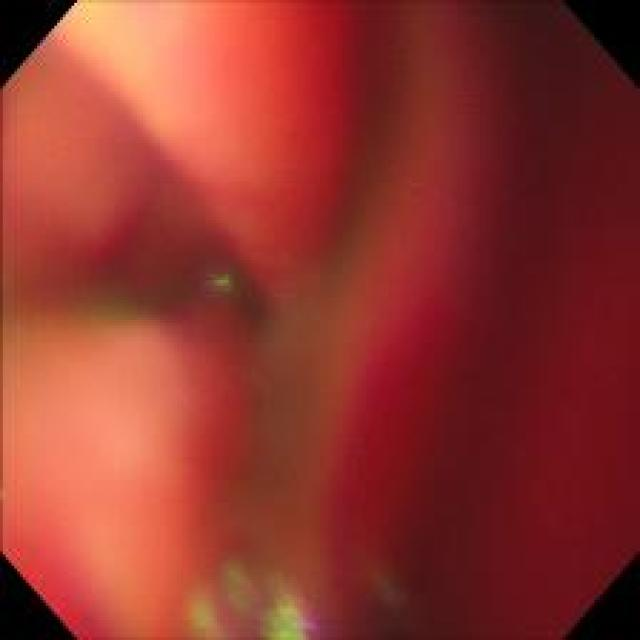blur: (16, 12, 632, 620)
color misalignment: (301, 9, 615, 634), (169, 546, 336, 638), (205, 259, 241, 306)
